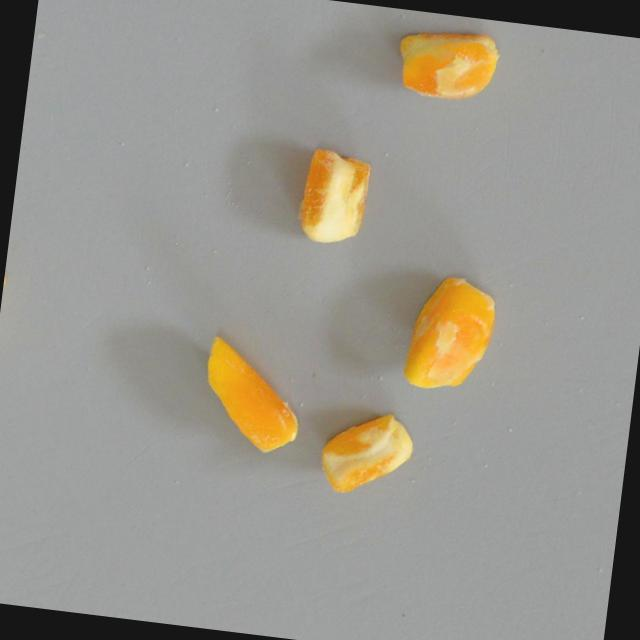pelicula: (192, 331, 306, 456), (279, 133, 378, 265), (400, 272, 499, 404), (390, 19, 503, 109), (313, 404, 416, 499), (0, 241, 19, 364)
